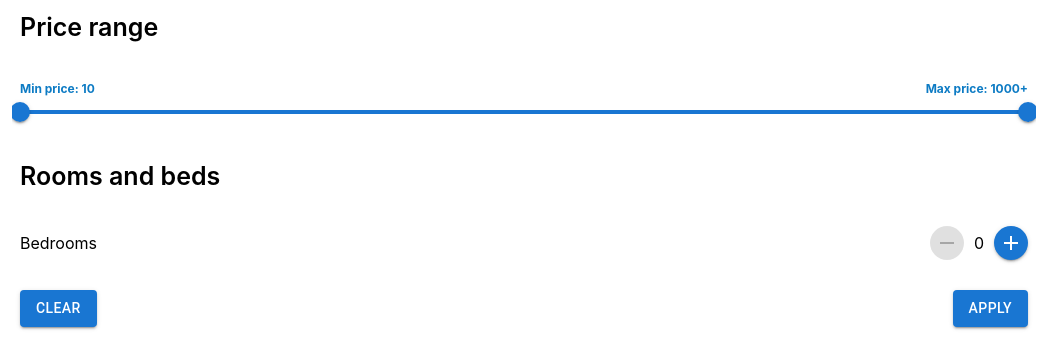
Test case: Apartment filter component › has change count bedrooms when click button plus
Step 1. Click the button named "add" → (1011, 243), box [994,226,1028,260]
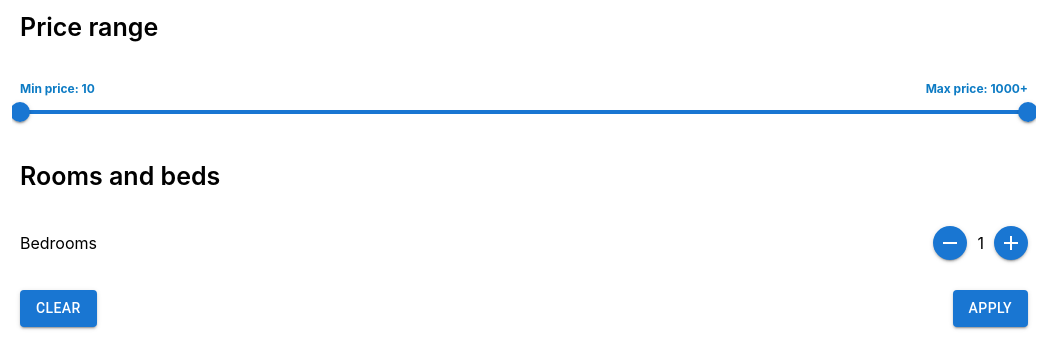
Result: the text "1" is shown at [978,233,984,253]
